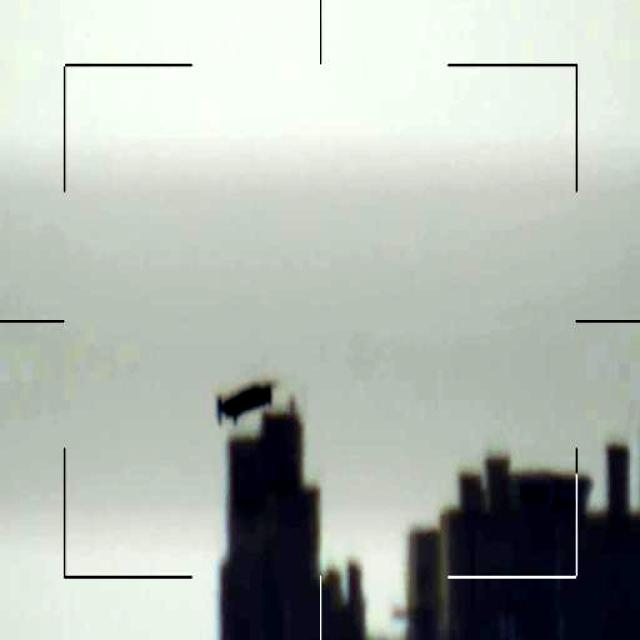bird: (211, 382, 272, 425)
